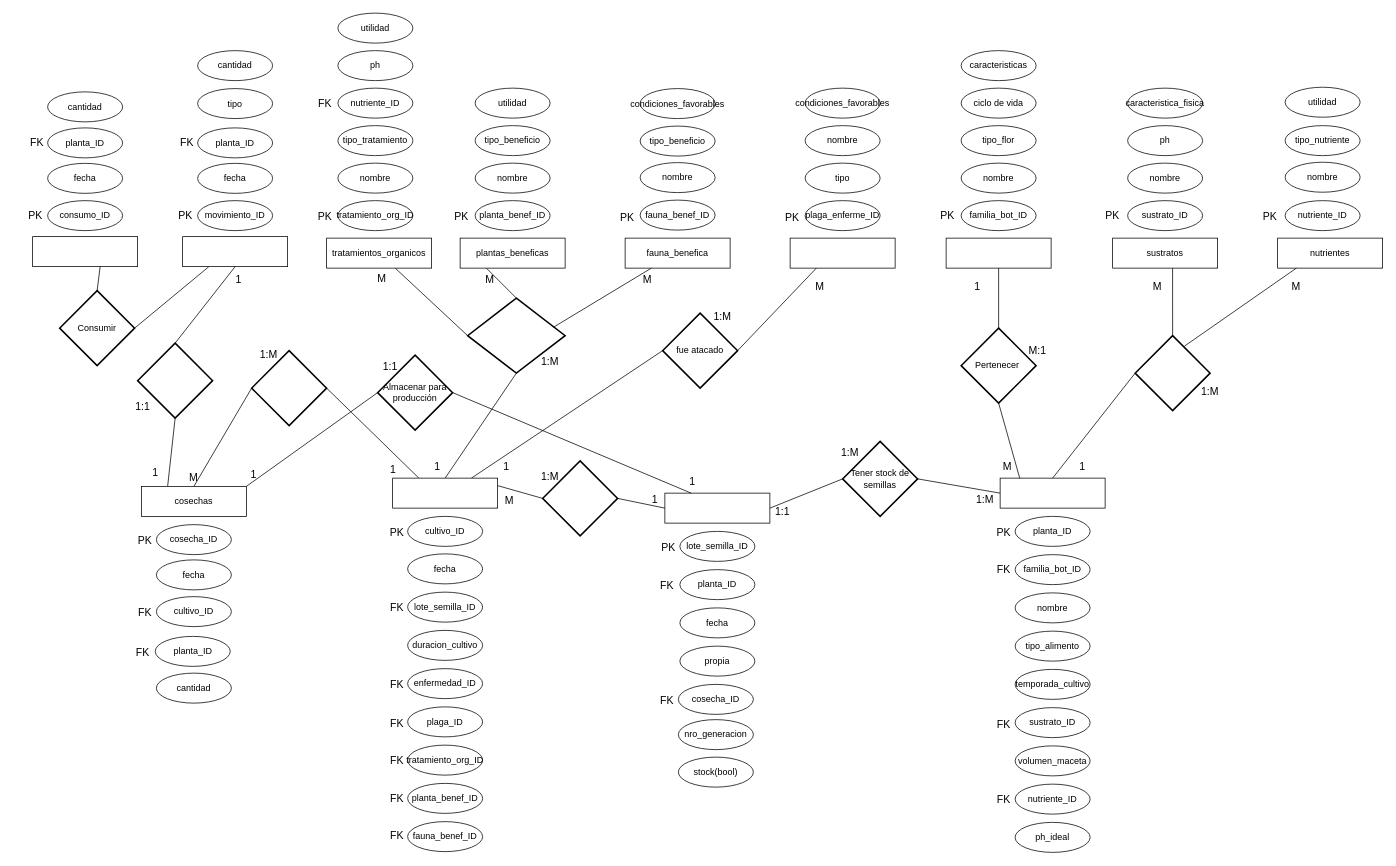
The diagram is 1396 pixels wide and 866 high, and some of its shapes have lost their labels. Each missing label, with the box of its shape:
Almacenar para consumo: (136, 342, 213, 418)
consumos: (32, 236, 138, 267)
Cosechar: (250, 350, 327, 426)
cultivo recibió: (466, 297, 566, 374)
cultivo-siembra: (392, 477, 498, 508)
despensa: (182, 236, 288, 267)
familias_botanicas: (945, 237, 1051, 268)
lotes_semillas: (664, 492, 770, 523)
Necesitar: (1134, 334, 1210, 411)
plagas_enfermedades: (789, 237, 895, 268)
plantas_alimento: (999, 477, 1105, 508)
Sembrar: (542, 460, 618, 536)
